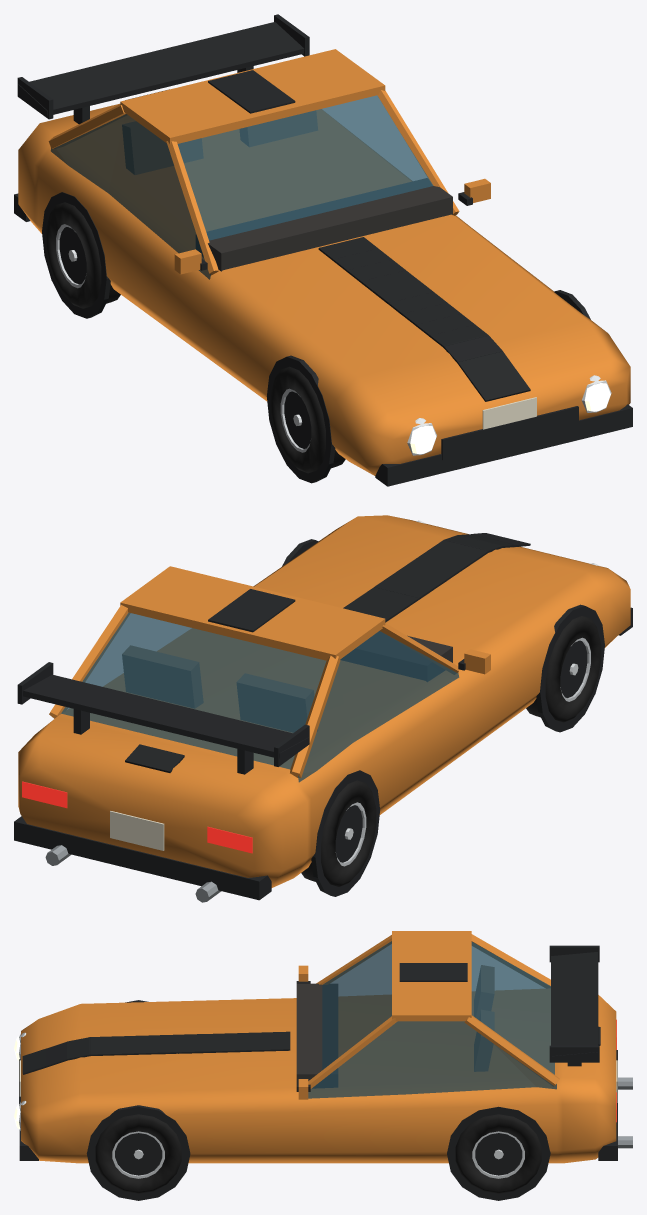
File: ember-coupe.glb
3 views of the same model, one above another, from view 1: azimuth 30°, elevation 25°; view 2: azimuth 150°, elevation 25°; view 3: azimuth 270°, elevation 25° (orthographic). The views are drawn at different scales.
Parts seen in each view (by area): view 1: body, wheel_RR, wheel_FR, plate_F, headlight_L, headlight_R; view 2: body, wheel_FR, wheel_RR, plate_R, taillight_R, taillight_L; view 3: body, wheel_RL, wheel_FL.
Boxes of the visible parts, x1,y1,x2,y2 form: body: (14, 14, 632, 486); wheel_RR: (45, 202, 120, 308); wheel_FR: (270, 366, 345, 473); plate_F: (482, 397, 536, 429); headlight_L: (581, 375, 611, 412); headlight_R: (407, 418, 436, 455); body: (14, 515, 632, 900); wheel_FR: (526, 616, 601, 722); wheel_RR: (301, 780, 376, 886); plate_R: (110, 811, 164, 850); taillight_R: (207, 826, 252, 853); taillight_L: (22, 781, 67, 808); body: (19, 931, 617, 1200); wheel_RL: (455, 1114, 541, 1193); wheel_FL: (95, 1114, 181, 1193).
Bounding box in the file's own units: 2.07 × 1.4 × 4.47.
